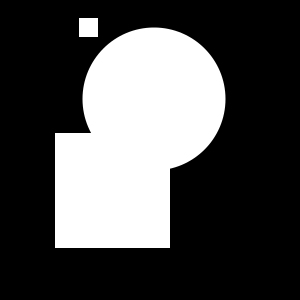circle: (55, 133, 170, 248), (79, 18, 98, 37)
rectangle: (82, 28, 226, 170)
